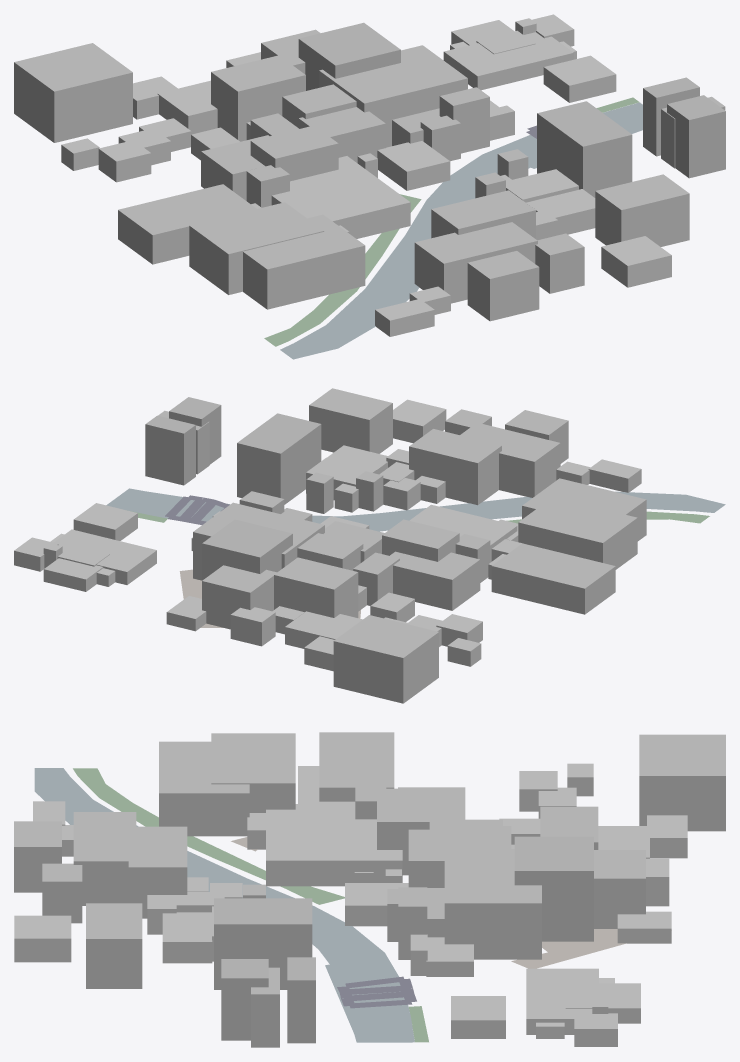
File: 120_105_mid.glb
3 views of the same model, one above another, from view 1: azimuth 30°, elevation 25°; view 2: azimuth 150°, elevation 25°; view 3: azimuth 270°, elevation 25° (orthographic). The views are drawn at different scales.
Bounding box in the file's own units: 517 × 60.52 × 548.
